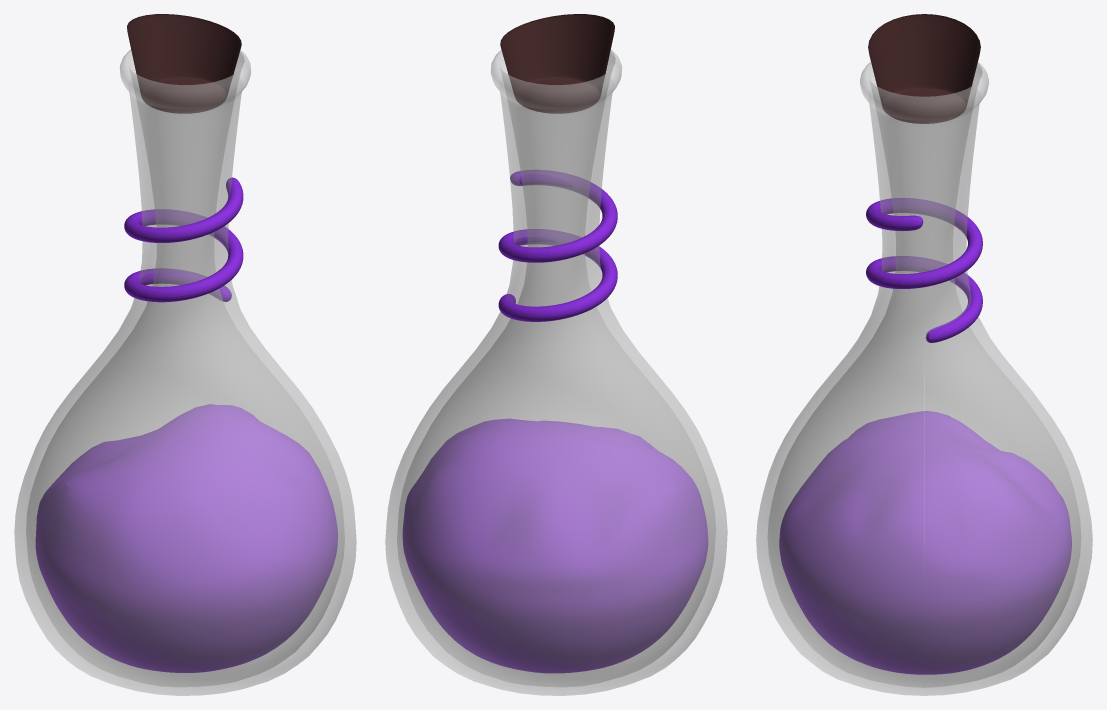
Rendered from Potion.fbx.
The picture shows the model from 3 angles, left to right: view 1: azimuth 30°, elevation 25°; view 2: azimuth 150°, elevation 25°; view 3: azimuth 270°, elevation 25°; orthographic projection.
Visible parts, largest first — view 1: Circle.004, Sphere.001, Circle.006, Circle.005; view 2: Circle.004, Sphere.001, Circle.006, Circle.005; view 3: Circle.004, Sphere.001, Circle.006, Circle.005.
Boxes of the visible parts, box(x1,y1,x2,y2) form: Circle.004: box(14, 49, 356, 695); Sphere.001: box(35, 404, 337, 672); Circle.006: box(127, 14, 241, 113); Circle.005: box(124, 177, 243, 302); Circle.004: box(385, 49, 727, 695); Sphere.001: box(402, 418, 708, 673); Circle.006: box(500, 14, 614, 113); Circle.005: box(498, 170, 617, 321); Circle.004: box(756, 62, 1092, 695); Sphere.001: box(779, 411, 1071, 674); Circle.006: box(868, 14, 980, 123); Circle.005: box(866, 198, 982, 342).
Bounding box in the file's own units: 32.46 × 65.71 × 32.46.
